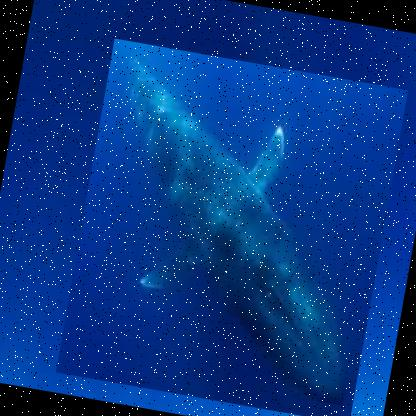blue_whale: (54, 37, 408, 415)
